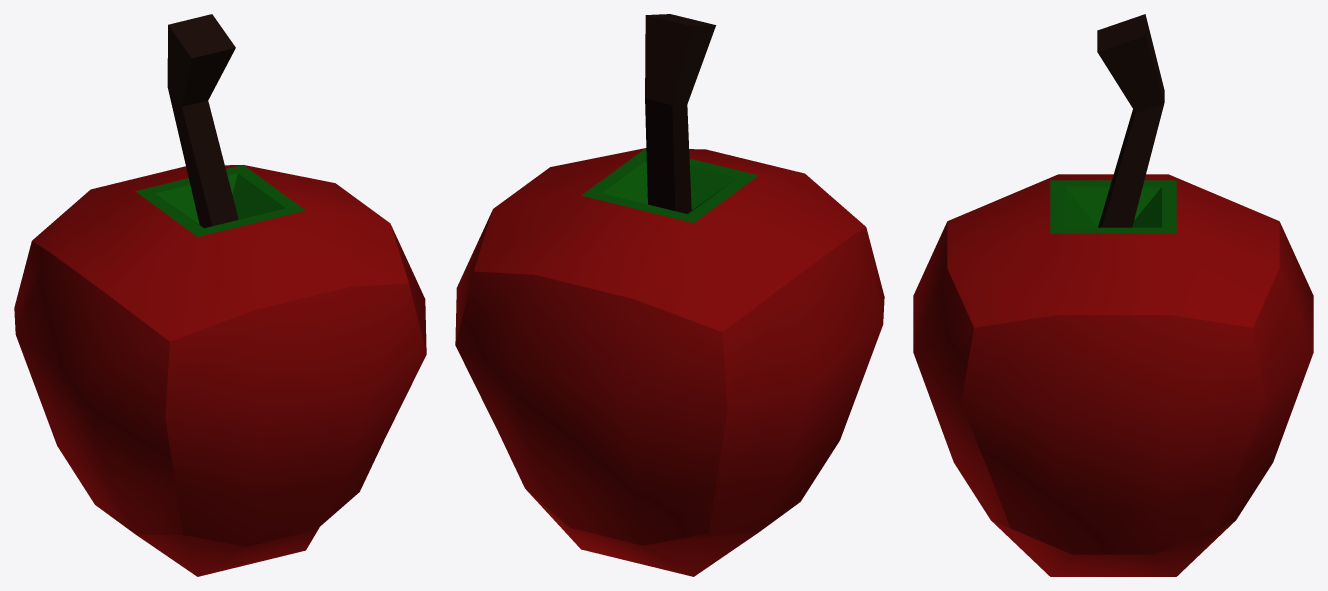
The model's file is AppleModel.FBX.
3 renders of one model, left to right at view 1: azimuth 30°, elevation 25°; view 2: azimuth 150°, elevation 25°; view 3: azimuth 270°, elevation 25°, orthographic. The views are drawn at different scales.
Parts seen in each view (by area): view 1: Box002; view 2: Box002; view 3: Box002.
Boxes of the visible parts, x1,y1,x2,y2 form: Box002: (14, 14, 426, 576); Box002: (455, 14, 884, 576); Box002: (913, 14, 1313, 576).
Bounding box in the file's own units: 19.13 × 27.32 × 19.13.
